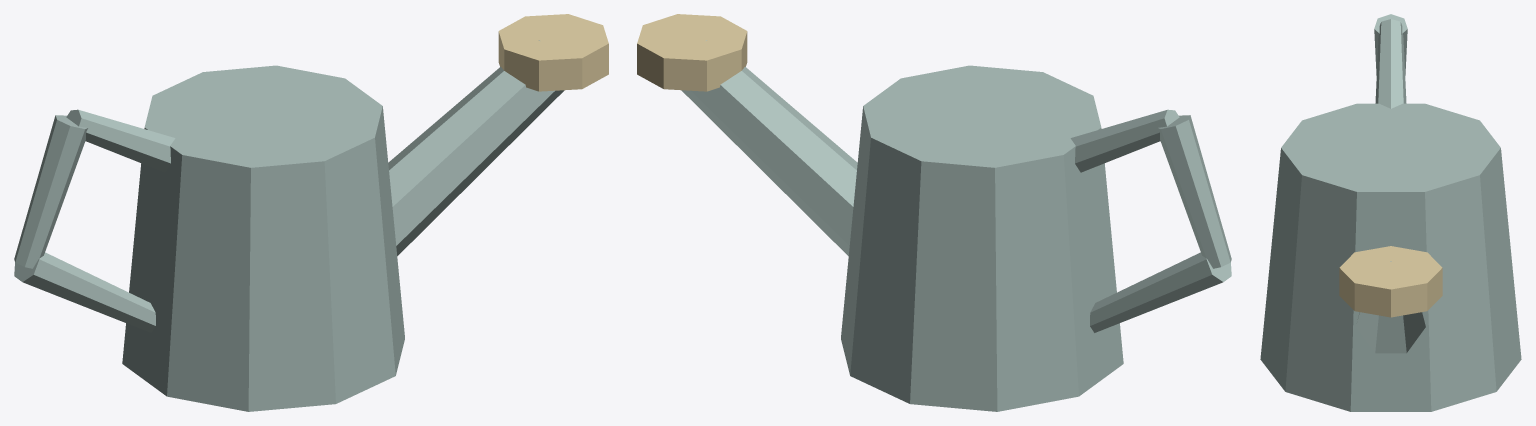
File: watering_can.fbx
3 views of the same model, side by side, from view 1: azimuth 30°, elevation 25°; view 2: azimuth 150°, elevation 25°; view 3: azimuth 270°, elevation 25° (orthographic). The views are drawn at different scales.
Parts seen in each view (by area): view 1: watering_can_geometry; view 2: watering_can_geometry; view 3: watering_can_geometry.
Part boxes in pixels (bbox=[...]): watering_can_geometry: bbox=[14, 14, 608, 411]; watering_can_geometry: bbox=[637, 14, 1231, 411]; watering_can_geometry: bbox=[1260, 14, 1521, 411].
Size of the model in its own units: 0.8919 by 0.4157 by 0.38.
